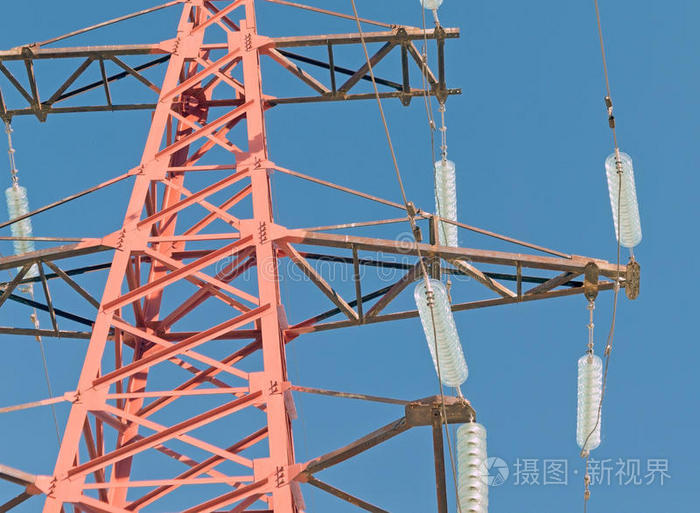insulator: (418, 278, 469, 386), (606, 151, 644, 246), (456, 421, 490, 513), (5, 185, 38, 276), (576, 351, 603, 451), (434, 158, 457, 248)
